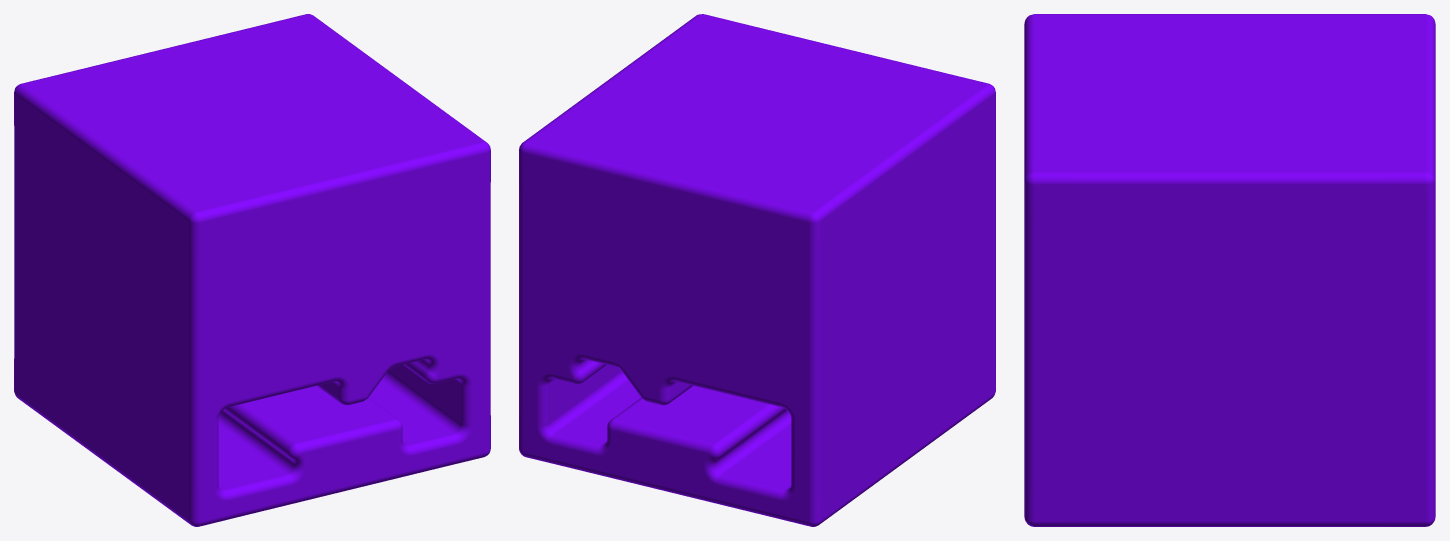
The model's file is keppa-box-violet.glb.
3 renders of one model, left to right at view 1: azimuth 30°, elevation 25°; view 2: azimuth 150°, elevation 25°; view 3: azimuth 270°, elevation 25°, orthographic. The views are drawn at different scales.
Parts seen in each view (by area): view 1: Object_64; view 2: Object_64; view 3: Object_64.
Boxes of the visible parts, <box> form: Object_64: <box>14,14,490,526</box>; Object_64: <box>519,14,995,526</box>; Object_64: <box>1024,14,1435,526</box>.
Bounding box in the file's own units: 2.16 × 2.16 × 2.27.
